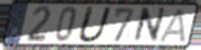0: (55, 5, 80, 44)
2: (25, 4, 52, 44)
7: (113, 7, 137, 44)
A: (158, 8, 187, 44)
N: (130, 6, 167, 45)
U: (76, 5, 115, 44)
